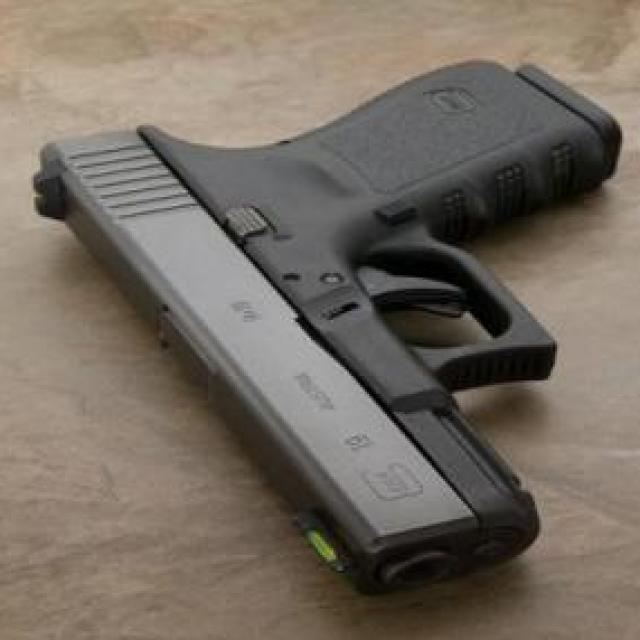pistol: (27, 61, 630, 594)
